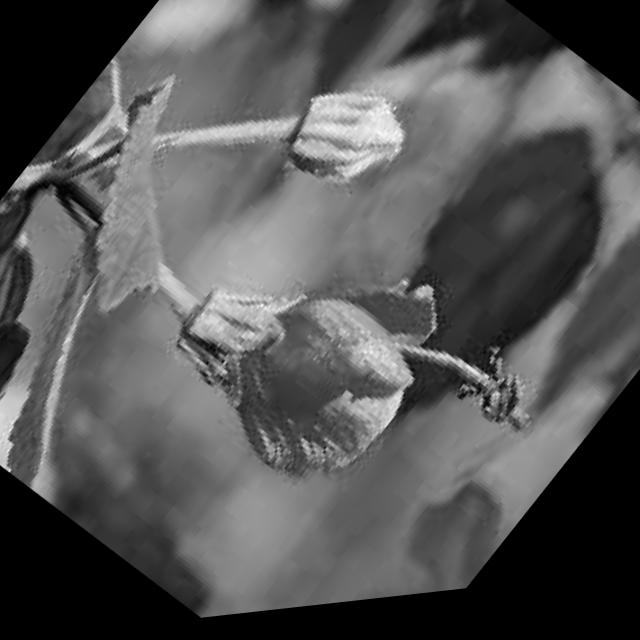Flower: (131, 163, 573, 629)
